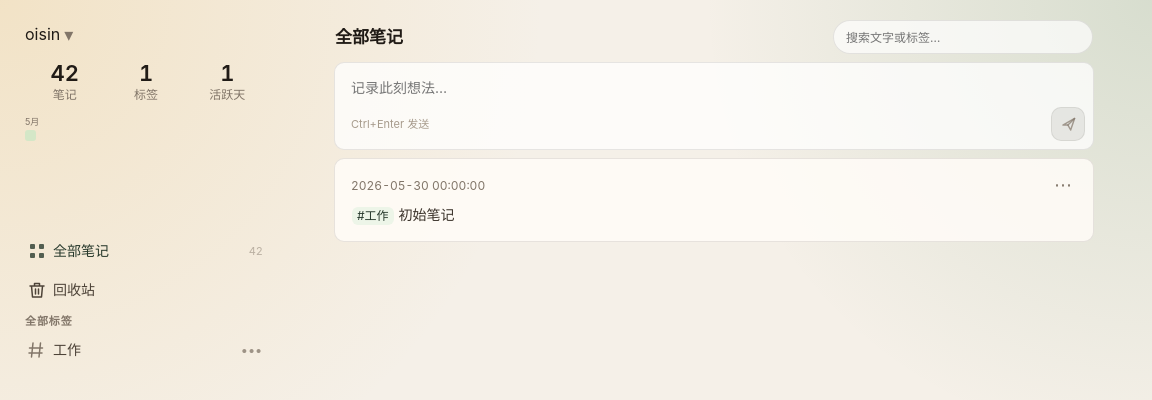
Test: App › 点击标签时请求后端 tagPath 参数
Click the button with aria-label "工作 (1)".
click(142, 350)  # box [52,339,232,362]
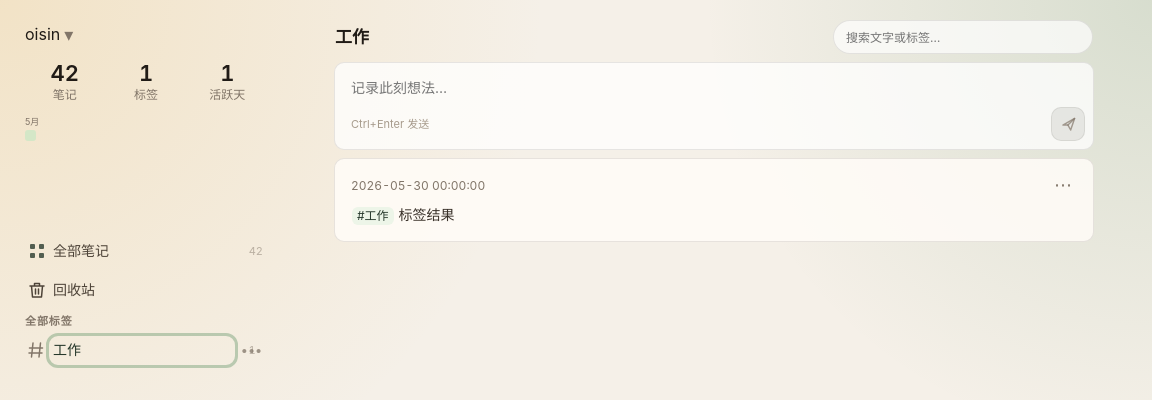
Expected: the text "#工作 标签结果" is shown, [352,206,454,225]
